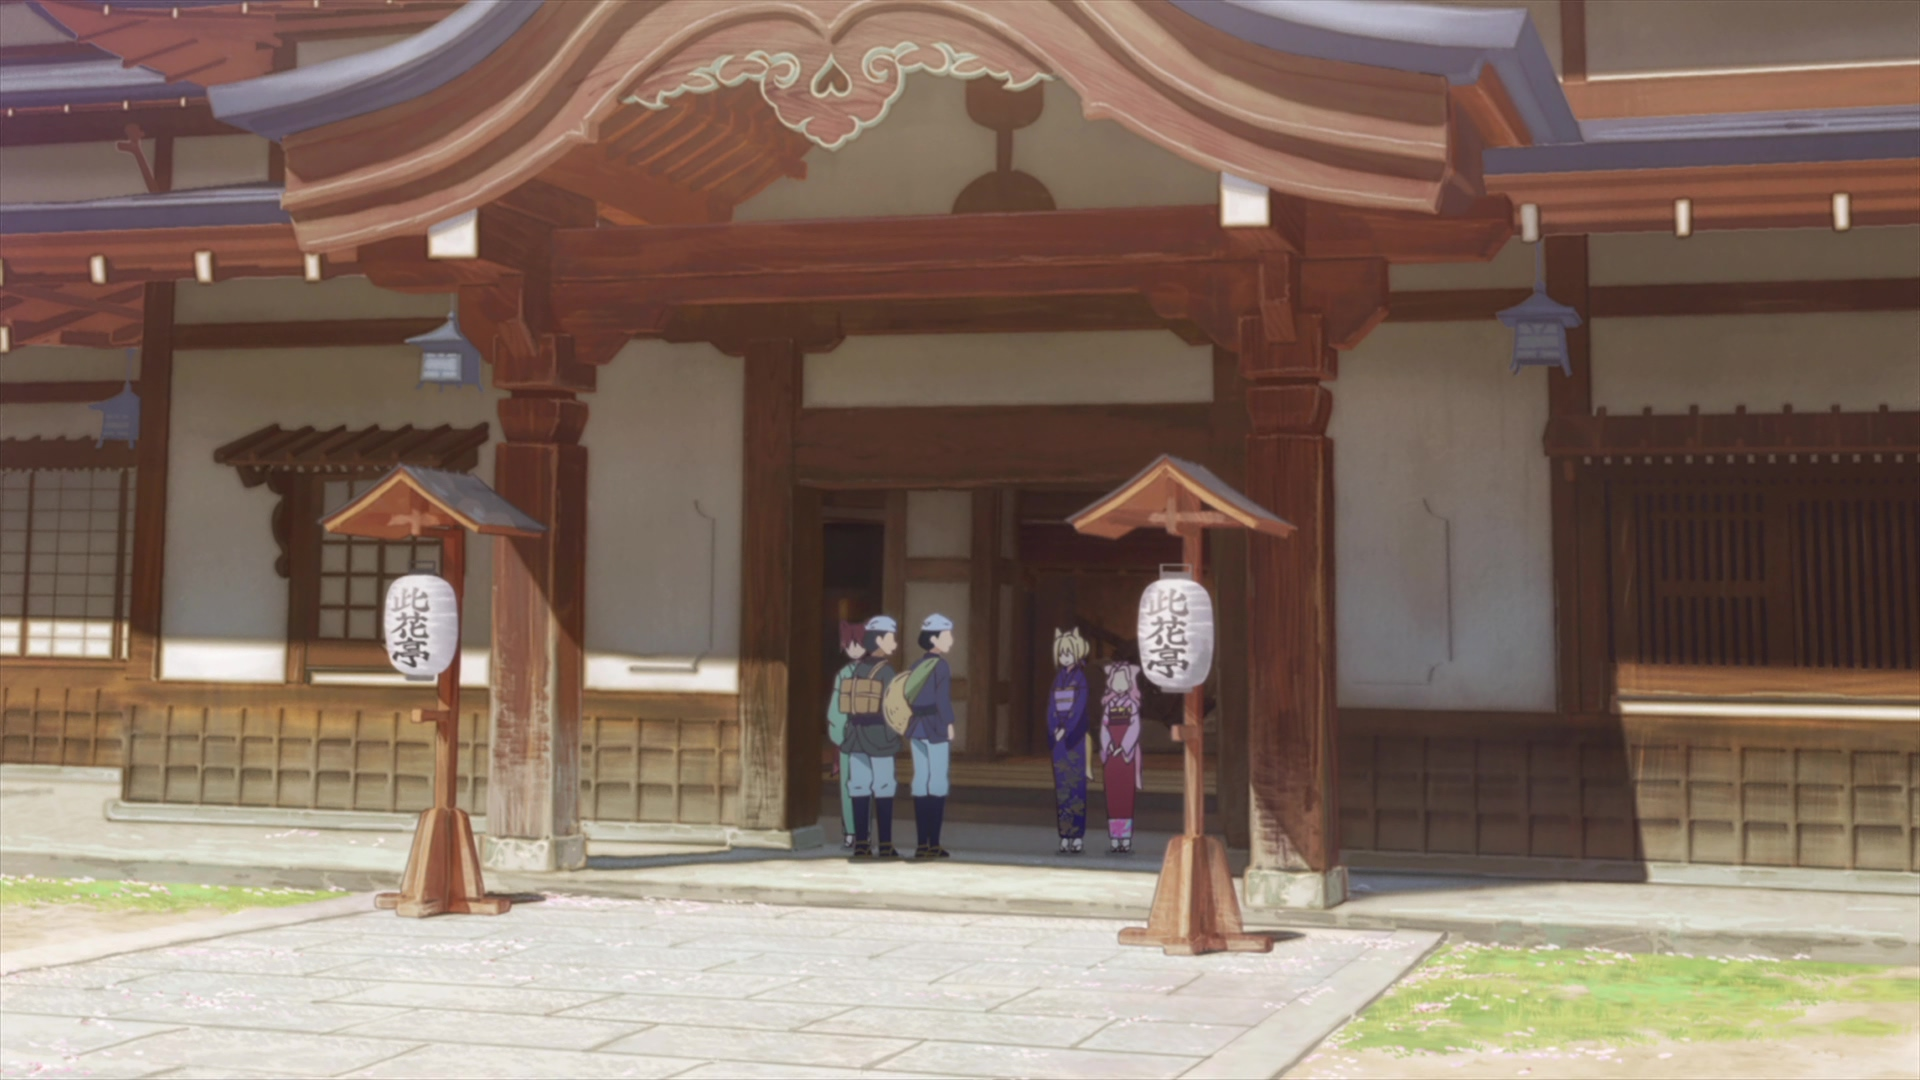其他: (882, 613, 953, 860), (837, 618, 898, 858)
枣: (825, 618, 866, 851)
桐: (1044, 626, 1095, 856)
莲: (1102, 663, 1141, 853)
